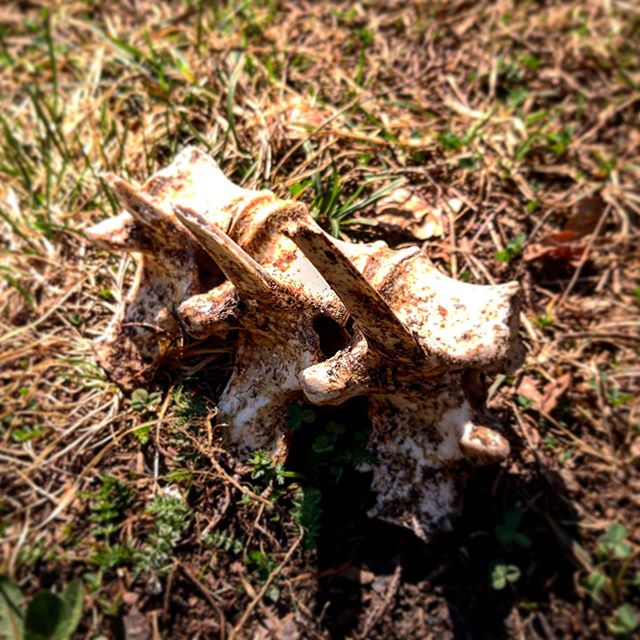bones: (62, 105, 538, 547)
